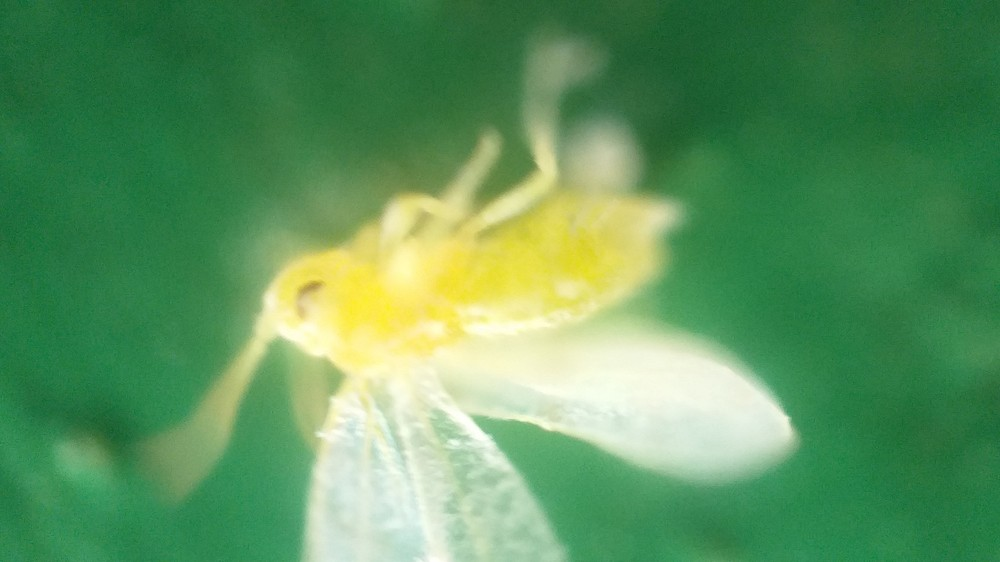Mosca Blanca: (154, 52, 828, 562)
